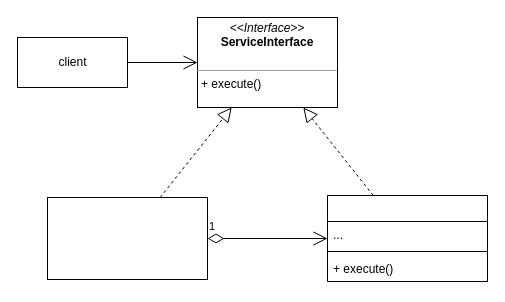
Some shapes in this 505 by 302 pixel diagram are drawn without their labels. Here are the shapes that lost their labels. From the top down, the box of each, then its label:
(46, 196, 208, 280): Proxy - innerService: Service + execute()
(326, 194, 488, 282): Service
